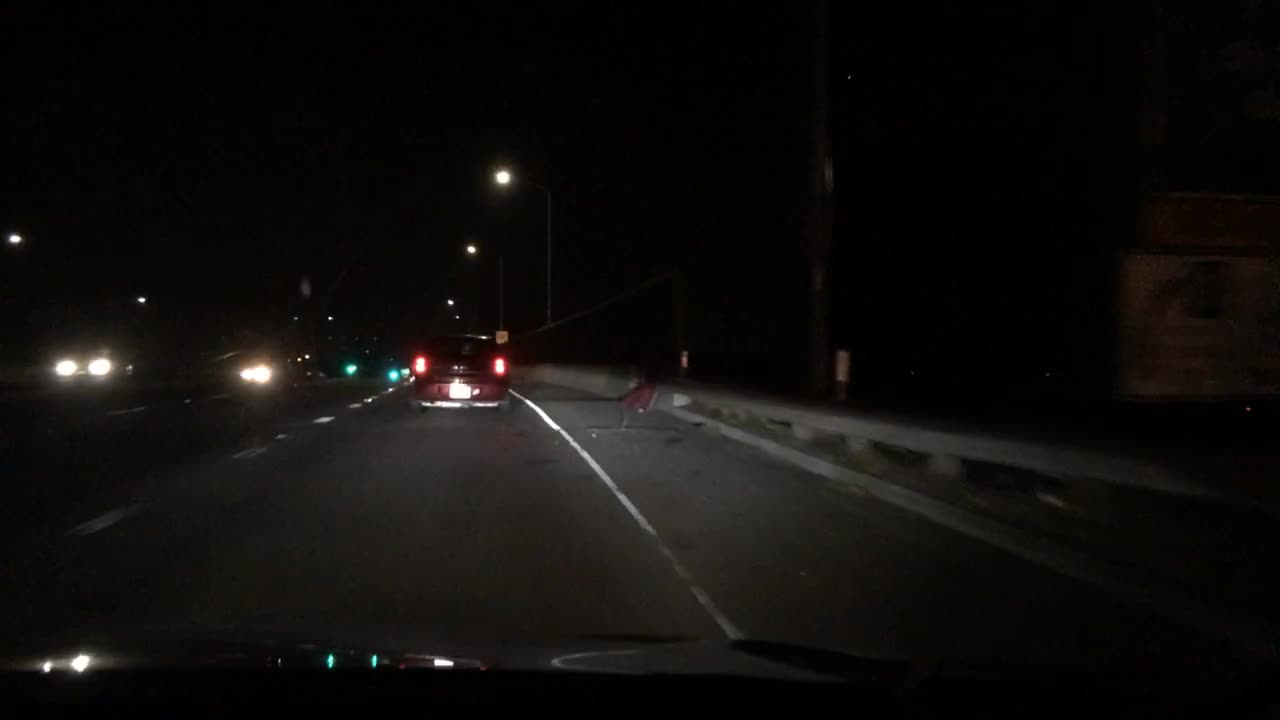car: (406, 332, 512, 416), (49, 341, 126, 383), (0, 352, 53, 386), (229, 356, 273, 386)
traffic sign: (1119, 255, 1280, 400), (1151, 194, 1278, 250), (494, 331, 509, 342)
